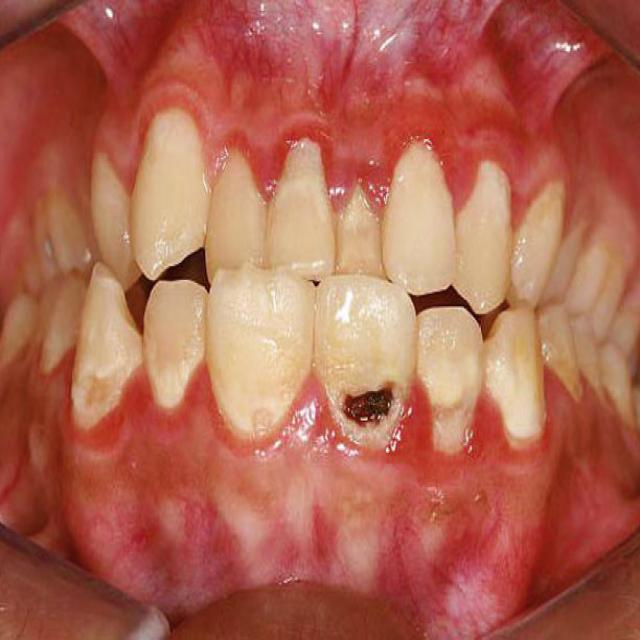caries: (344, 366, 398, 441)
